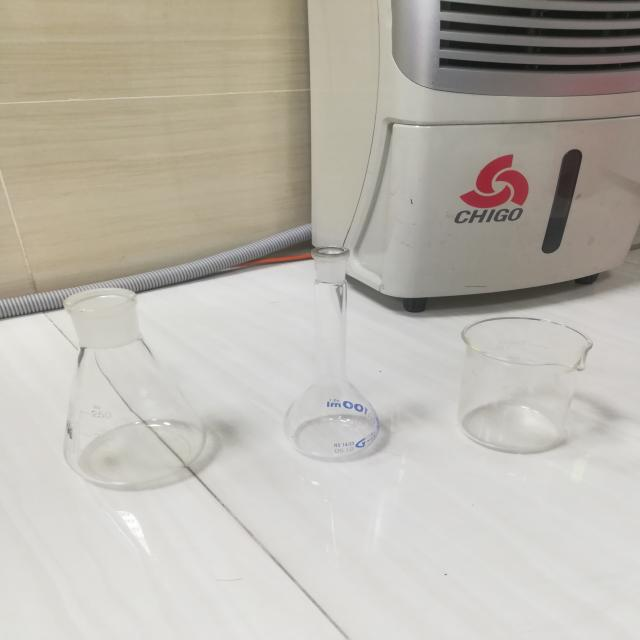Beaker: (437, 305, 605, 478)
Conical_Flask: (28, 255, 230, 513)
Volumetric_Flask: (255, 226, 402, 478)
